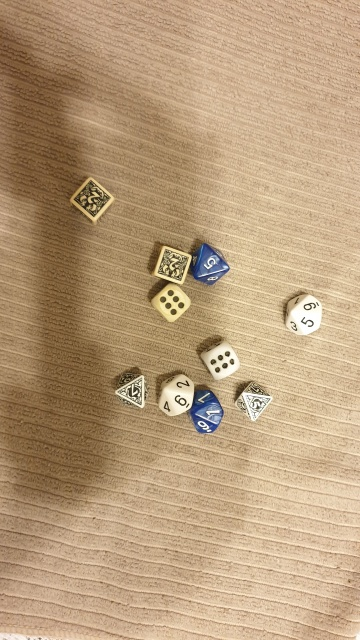d10-1: (185, 385, 225, 439)
d10-5: (276, 288, 327, 338), (188, 240, 231, 290)
d10-6: (156, 369, 194, 422)
d6-6: (145, 280, 194, 325), (194, 337, 240, 383)
d6p-2: (67, 172, 117, 228), (148, 240, 191, 288)
d8p-5: (233, 375, 272, 424)
d8p-7: (107, 367, 149, 412)
